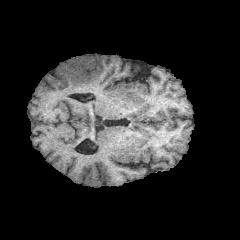glioma: (55, 55, 102, 88)
